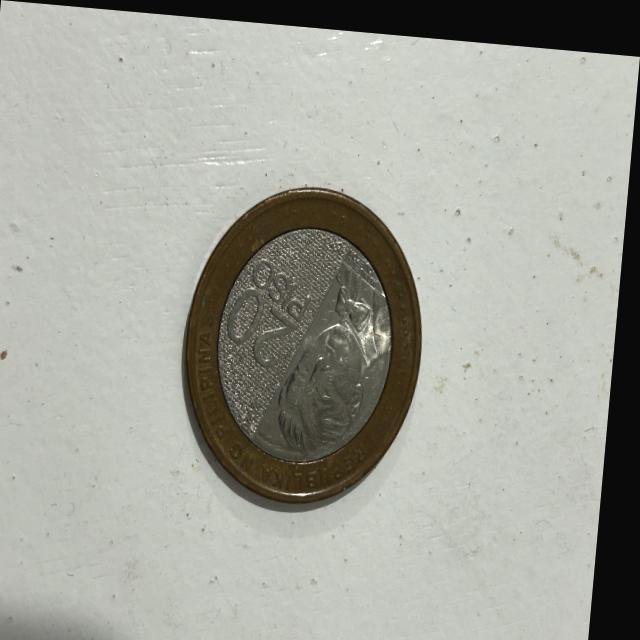20_New_Front: (229, 254, 319, 385)
